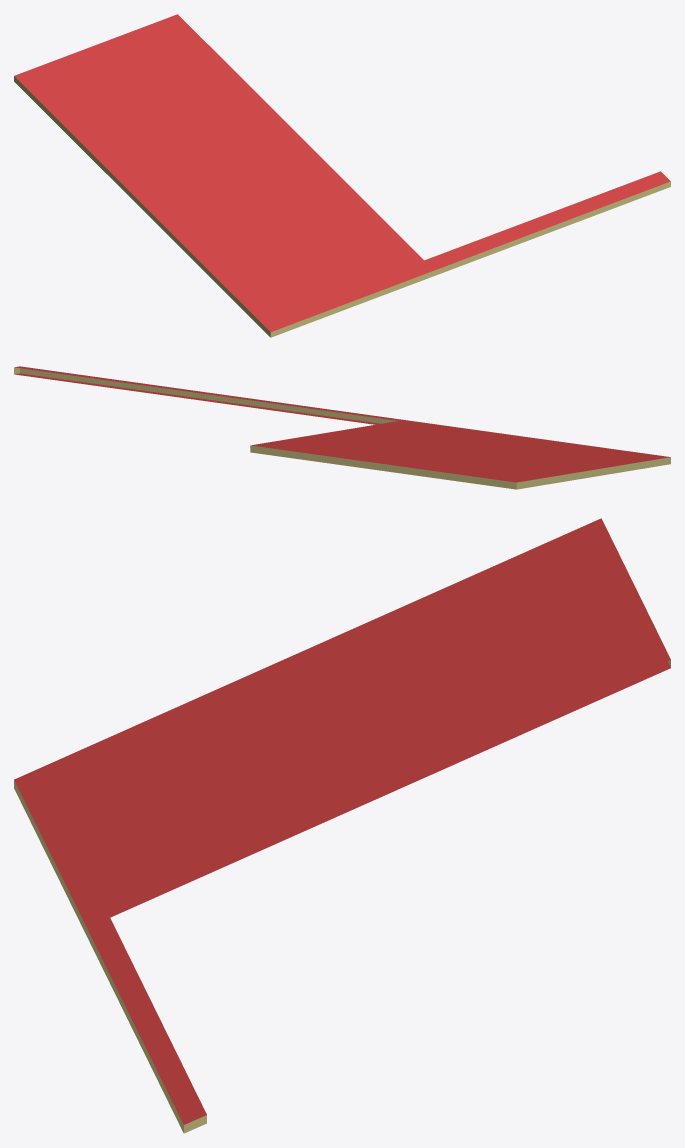
3 views of the same model, one above another, from view 1: azimuth 30°, elevation 25°; view 2: azimuth 150°, elevation 25°; view 3: azimuth 270°, elevation 25° (orthographic). The views are drawn at different scales.
Size of the model in its own units: 9.91 by 6.93 by 2.54.
